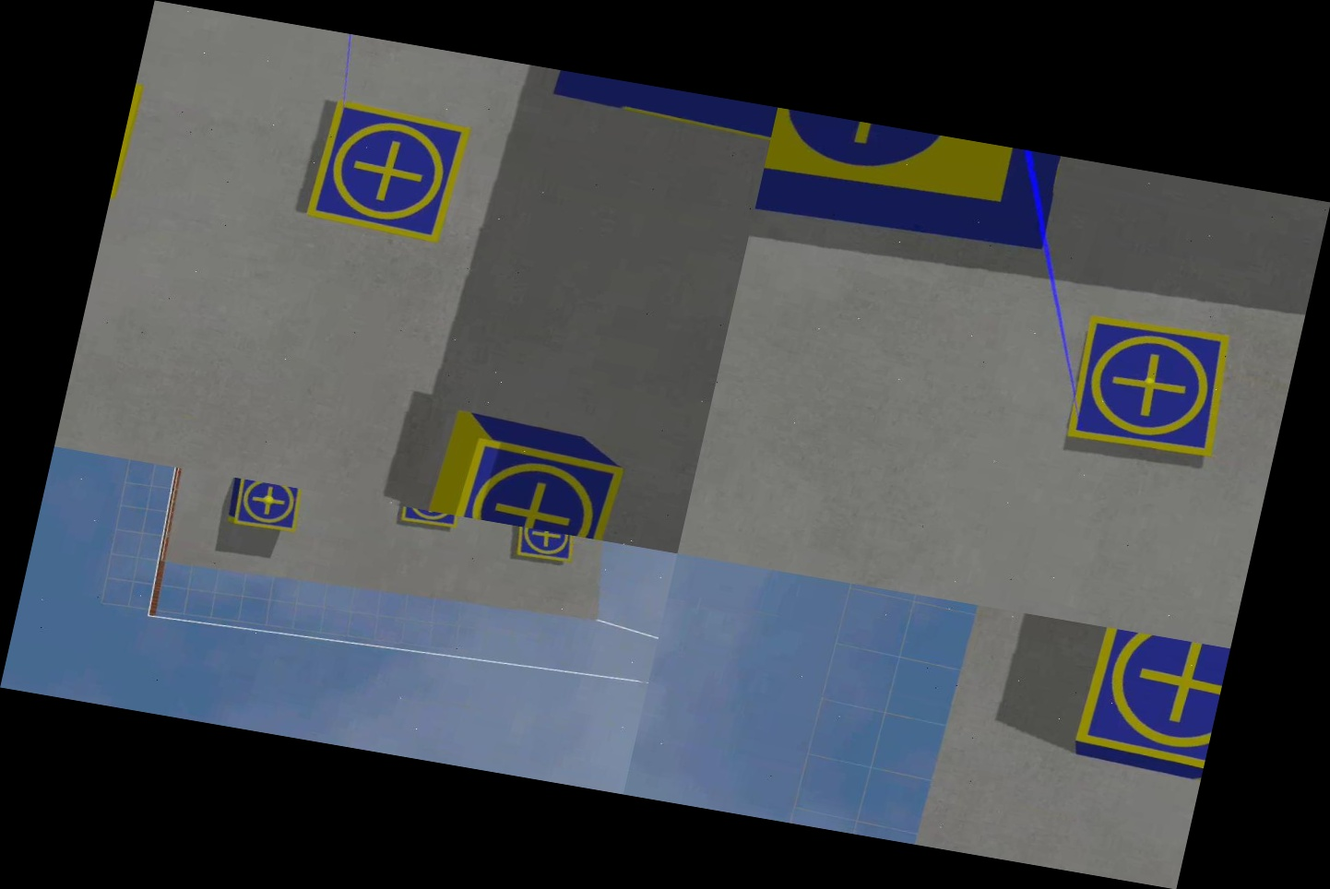large_base: (749, 107, 1082, 289)
small_base: (1047, 299, 1250, 477), (299, 95, 479, 248), (1068, 625, 1229, 776), (447, 429, 629, 542), (222, 478, 309, 539), (505, 526, 582, 572), (392, 505, 463, 535)
